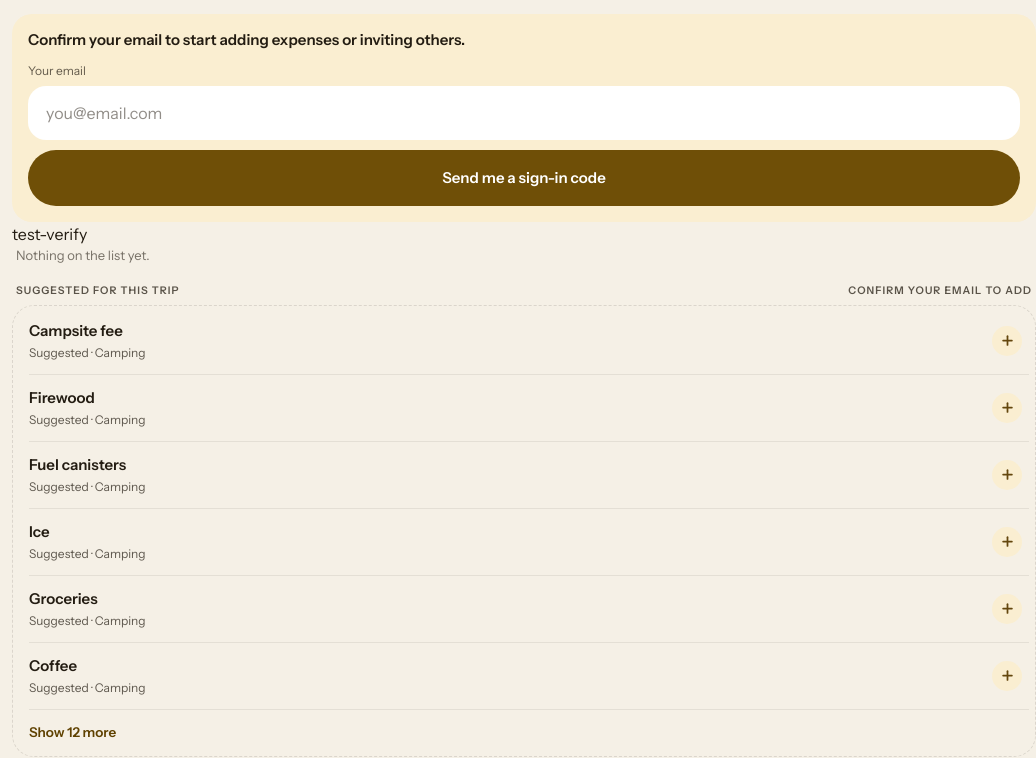
Test: Suggested card wiring › an unverified organizer's + makes no insert, shows the pending headline, and Cancel clears it
Click the button named "Add 'Campsite fee' to the list". click: (1007, 341)
box: [985,319,1029,363]
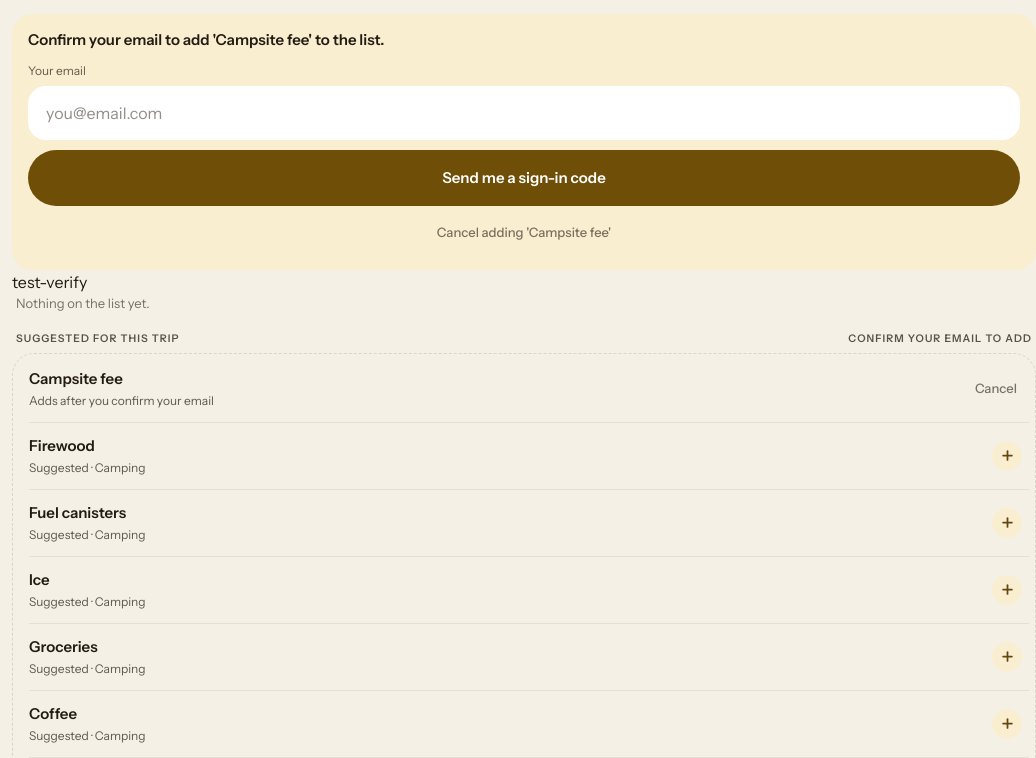
Expected: the text "Confirm your email to add 'Campsite fee' to the list." is shown, [28,30,384,49]
Expected: the text "Adds after you confirm your email" is shown, [29,392,214,408]
Click the button "Cancel adding 'Campsite fee'". click: (524, 232)
box: [28,210,1020,254]
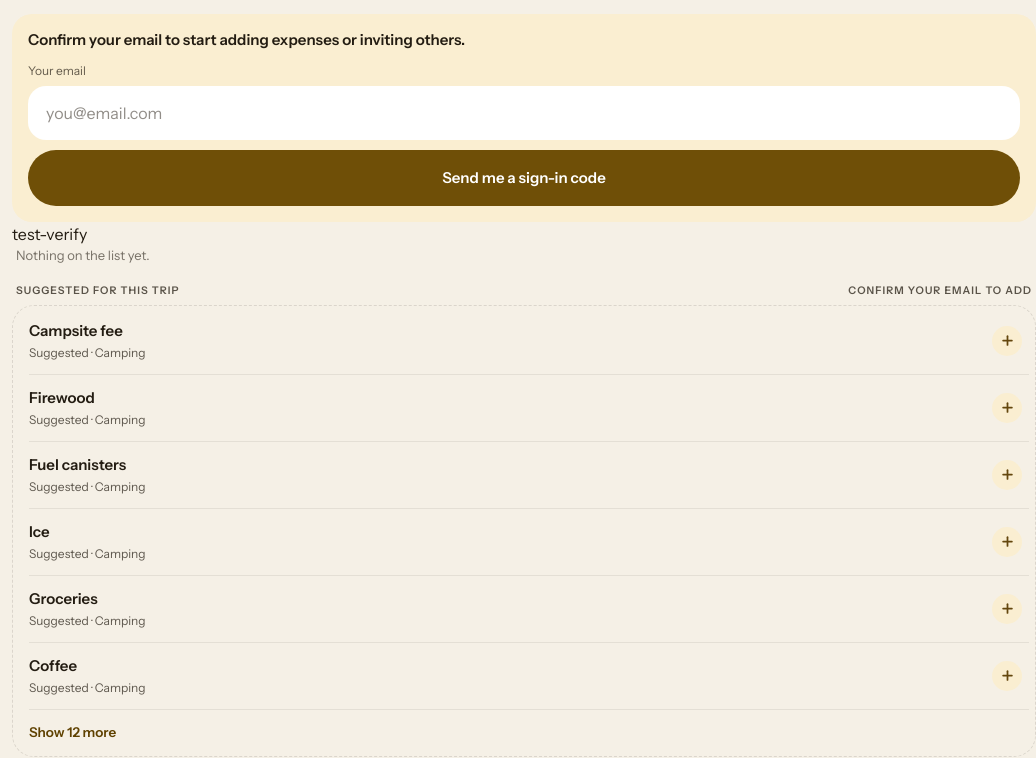
Expected: the text "Adds after you confirm your email" is gone
Expected: the text "Confirm your email to start adding expenses" is shown, [28,30,465,49]
